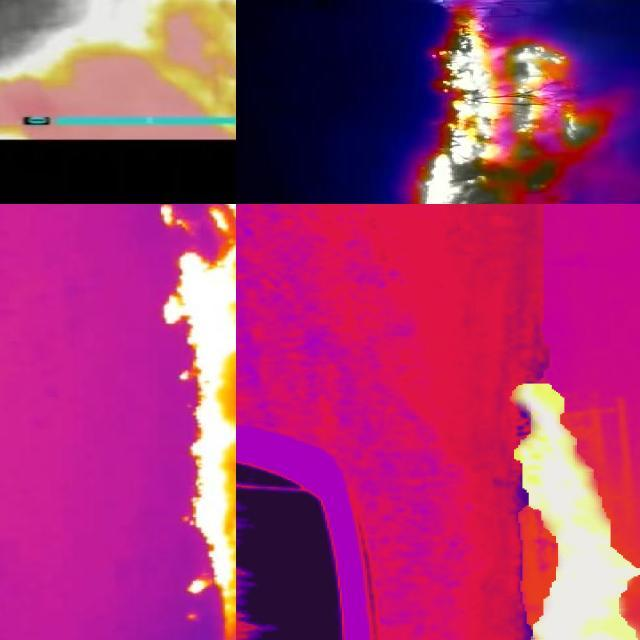fire: (498, 373, 640, 640), (420, 9, 610, 205), (160, 205, 237, 640), (1, 15, 237, 140)
